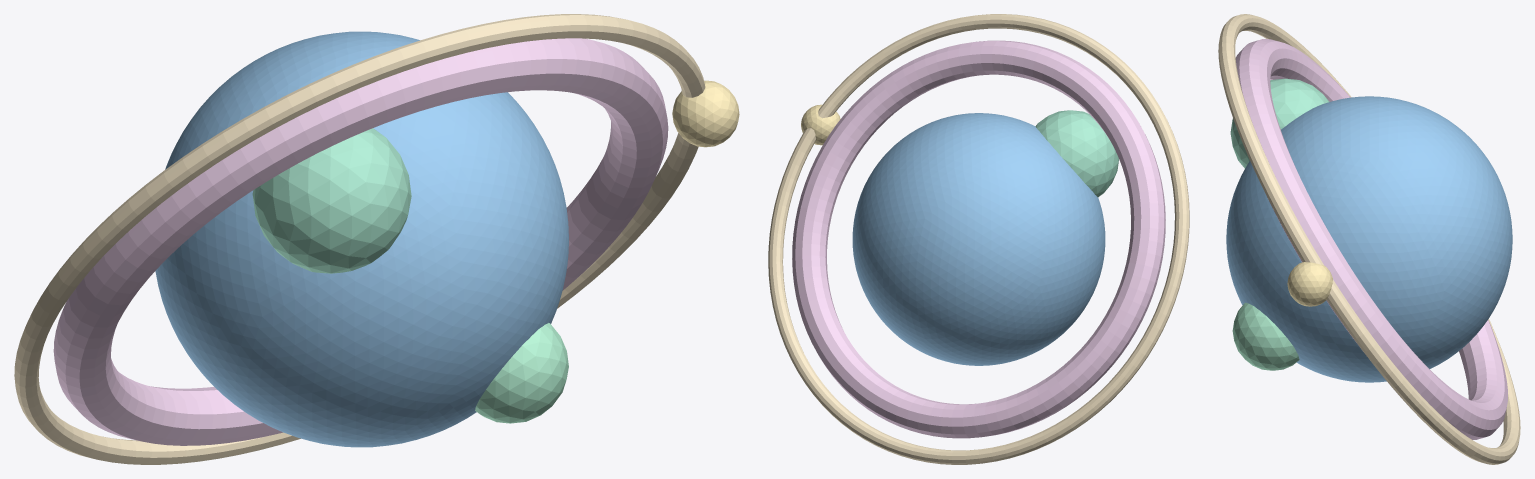
Rendered from planet.glb.
3 renders of one model, left to right at view 1: azimuth 30°, elevation 25°; view 2: azimuth 150°, elevation 25°; view 3: azimuth 270°, elevation 25°, orthographic. The views are drawn at different scales.
Visible parts, largest first — view 1: planet-ocean, outer-ring, outer-gold-ring, land-a, land-b, moon; view 2: planet-ocean, outer-ring, outer-gold-ring, land-a, moon; view 3: planet-ocean, outer-ring, outer-gold-ring, land-b, land-a, moon.
Part boxes in pixels (bbox=[...]): planet-ocean: bbox=[155, 31, 568, 447]; outer-ring: bbox=[53, 38, 668, 445]; outer-gold-ring: bbox=[14, 14, 705, 464]; land-a: bbox=[252, 128, 411, 273]; land-b: bbox=[475, 323, 568, 423]; moon: bbox=[672, 80, 739, 147]; planet-ocean: bbox=[852, 113, 1105, 365]; outer-ring: bbox=[792, 40, 1165, 438]; outer-gold-ring: bbox=[768, 14, 1189, 464]; land-a: bbox=[1035, 110, 1118, 197]; moon: bbox=[801, 104, 840, 145]; planet-ocean: bbox=[1226, 96, 1512, 382]; outer-ring: bbox=[1235, 38, 1507, 439]; outer-gold-ring: bbox=[1218, 14, 1520, 464]; land-b: bbox=[1232, 302, 1299, 370]; land-a: bbox=[1230, 78, 1329, 168]; moon: bbox=[1287, 262, 1332, 306].
Size of the model in its own units: 1.25 by 1.03 by 0.7175.
